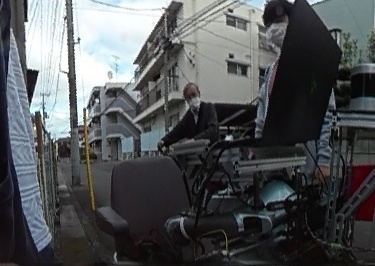person: (162, 84, 223, 150)
